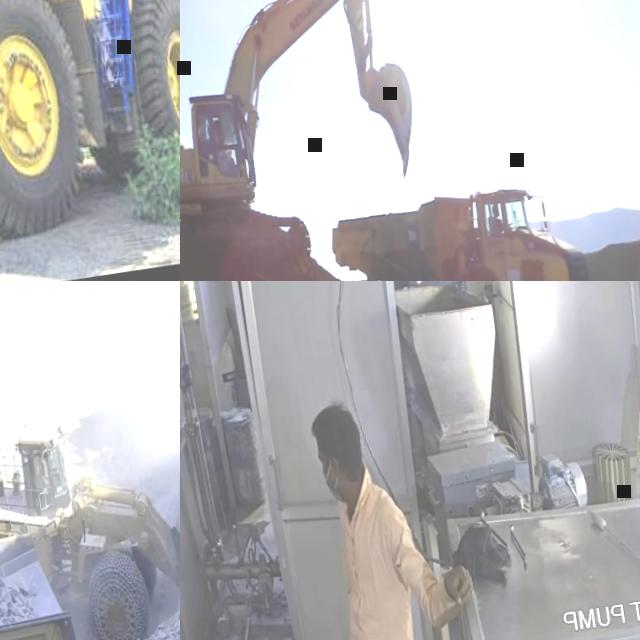machinery: (180, 0, 436, 281), (0, 0, 180, 281), (0, 393, 180, 640), (327, 170, 602, 281), (0, 498, 105, 640)
mask: (324, 464, 342, 502)
no_helmet: (308, 399, 362, 446)
no_vest: (326, 486, 426, 640)
person: (310, 381, 492, 640), (208, 125, 238, 176), (490, 209, 506, 237)
